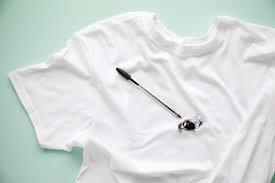ink: (182, 121, 195, 129)
